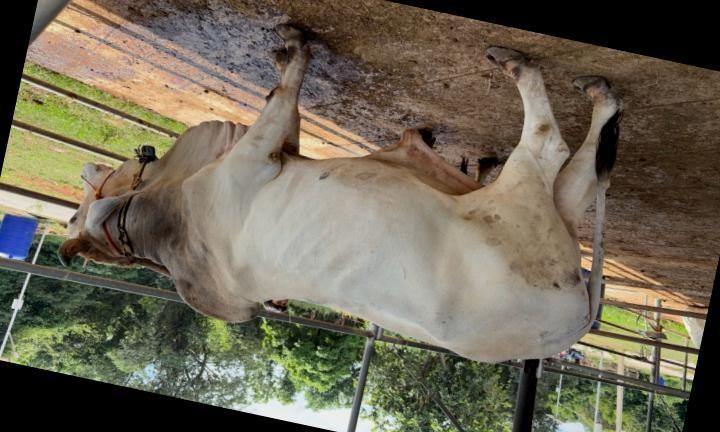Brahman: (59, 25, 622, 363)
